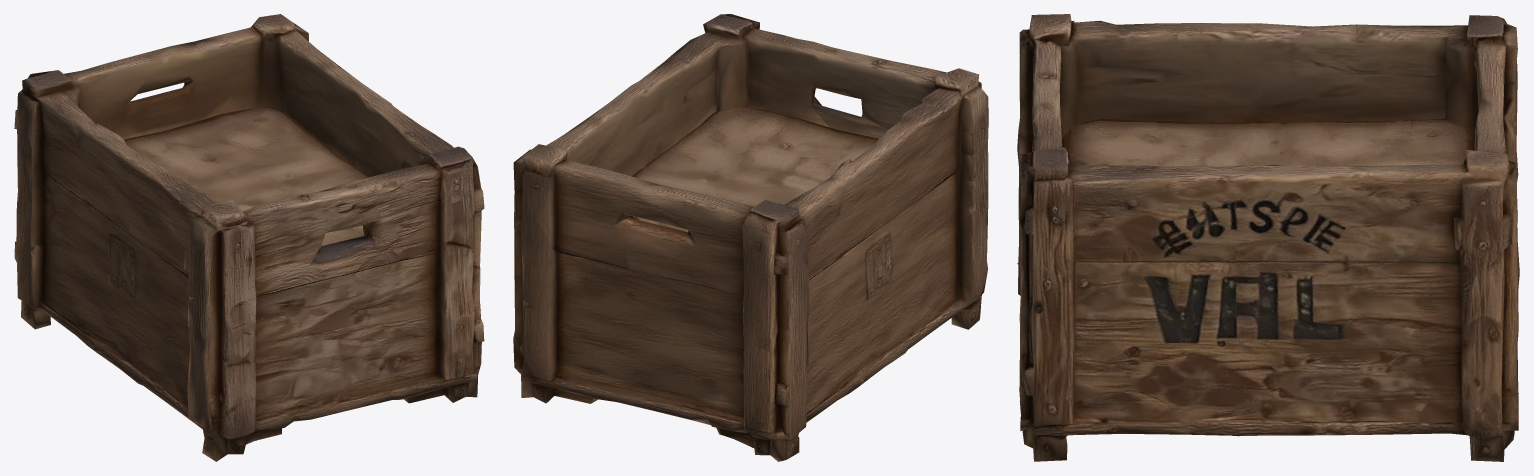
The model's file is crate.glb.
3 views of the same model, side by side, from view 1: azimuth 30°, elevation 25°; view 2: azimuth 150°, elevation 25°; view 3: azimuth 270°, elevation 25° (orthographic). The views are drawn at different scales.
Parts seen in each view (by area): view 1: tripo_node_5d18f9e8-1f8b-45fa-8460-69a6f39205bf; view 2: tripo_node_5d18f9e8-1f8b-45fa-8460-69a6f39205bf; view 3: tripo_node_5d18f9e8-1f8b-45fa-8460-69a6f39205bf.
Boxes of the visible parts, x1,y1,x2,y2 form: tripo_node_5d18f9e8-1f8b-45fa-8460-69a6f39205bf: (14,14,484,461); tripo_node_5d18f9e8-1f8b-45fa-8460-69a6f39205bf: (513,14,988,461); tripo_node_5d18f9e8-1f8b-45fa-8460-69a6f39205bf: (1017,14,1519,461).
Size of the model in its own units: 0.553 by 0.45 by 0.6912.
Materials: 1 (1 with a texture image).
